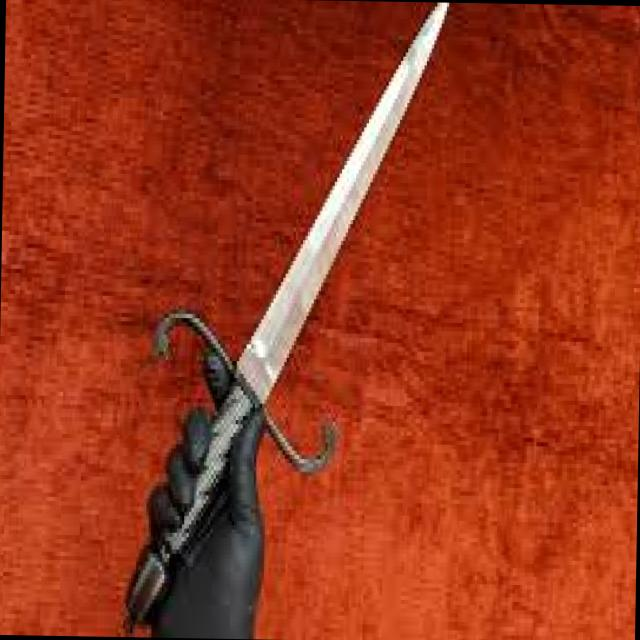Gun: (115, 0, 482, 638)
